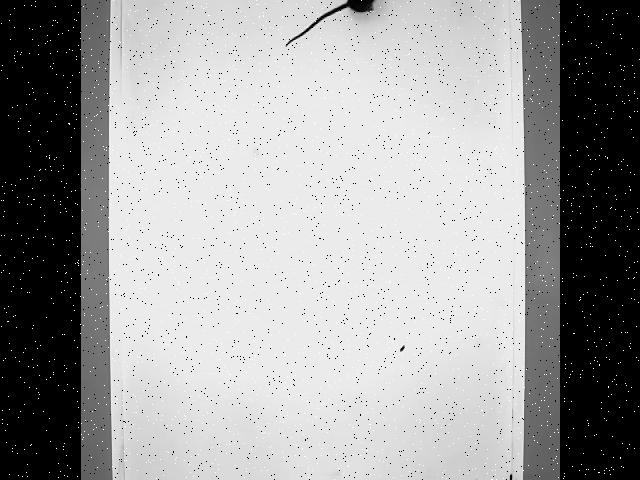Tikus: (277, 0, 390, 52)
